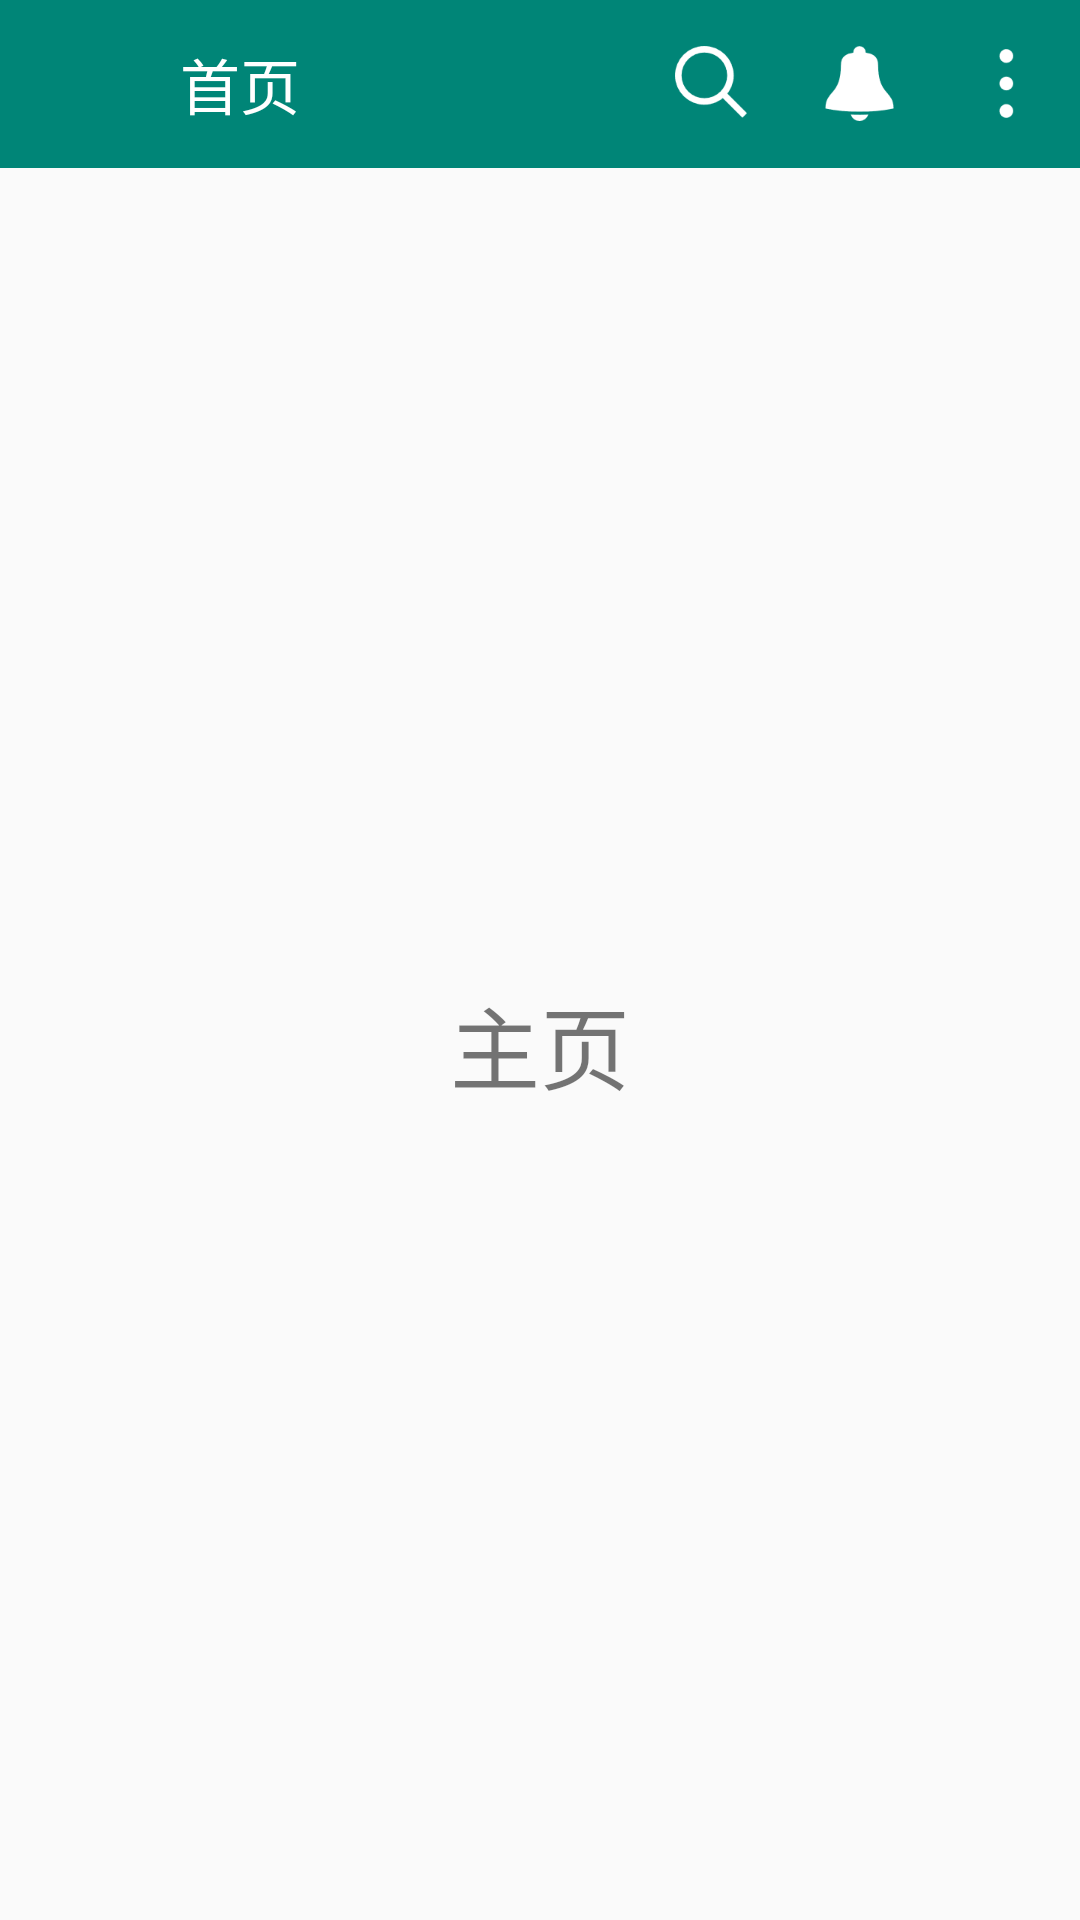

Icons on this 1080w x 1920h Android screen, each with its box as (x1, y1, x2, y2):
more: (999, 49, 1014, 118)
remind: (825, 46, 894, 121)
search: (675, 46, 747, 118)
